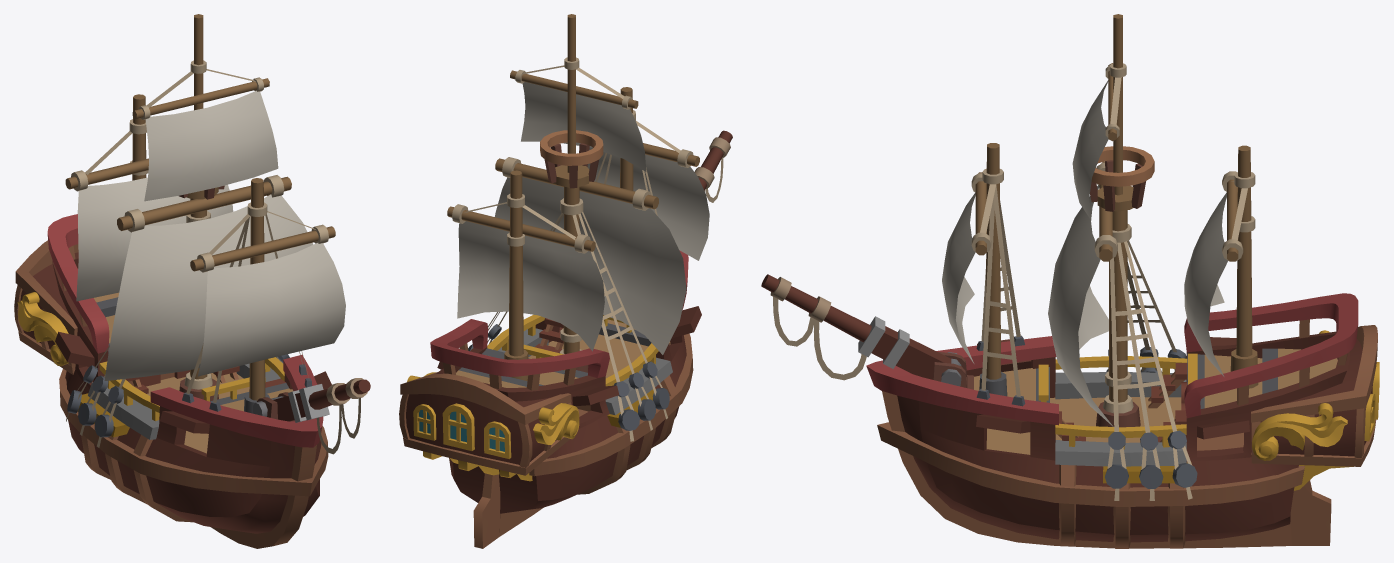
The model's file is Admiral.fbx.
3 views of the same model, side by side, from view 1: azimuth 30°, elevation 25°; view 2: azimuth 150°, elevation 25°; view 3: azimuth 270°, elevation 25° (orthographic). The views are drawn at different scales.
Visible parts, largest first — view 1: Admiral, Sails_White, Upgrade_02, Upgrade_01; view 2: Admiral, Sails_White, Upgrade_02, Rudder, Upgrade_01; view 3: Admiral, Sails_White, Upgrade_02, Upgrade_01, Rudder.
Part boxes in pixels (<box>): Admiral: <box>14,14,370,548</box>; Sails_White: <box>76,90,345,380</box>; Upgrade_02: <box>59,369,328,496</box>; Upgrade_01: <box>17,292,68,366</box>; Admiral: <box>399,14,732,536</box>; Sails_White: <box>457,82,709,354</box>; Upgrade_02: <box>529,333,693,476</box>; Rudder: <box>473,473,500,548</box>; Upgrade_01: <box>407,372,579,444</box>; Admiral: <box>761,14,1379,548</box>; Sails_White: <box>942,80,1227,427</box>; Upgrade_02: <box>877,422,1304,506</box>; Upgrade_01: <box>1252,330,1347,460</box>; Rudder: <box>1290,480,1331,545</box>.
Bounding box in the file's own units: 448 × 1015 × 1076.
